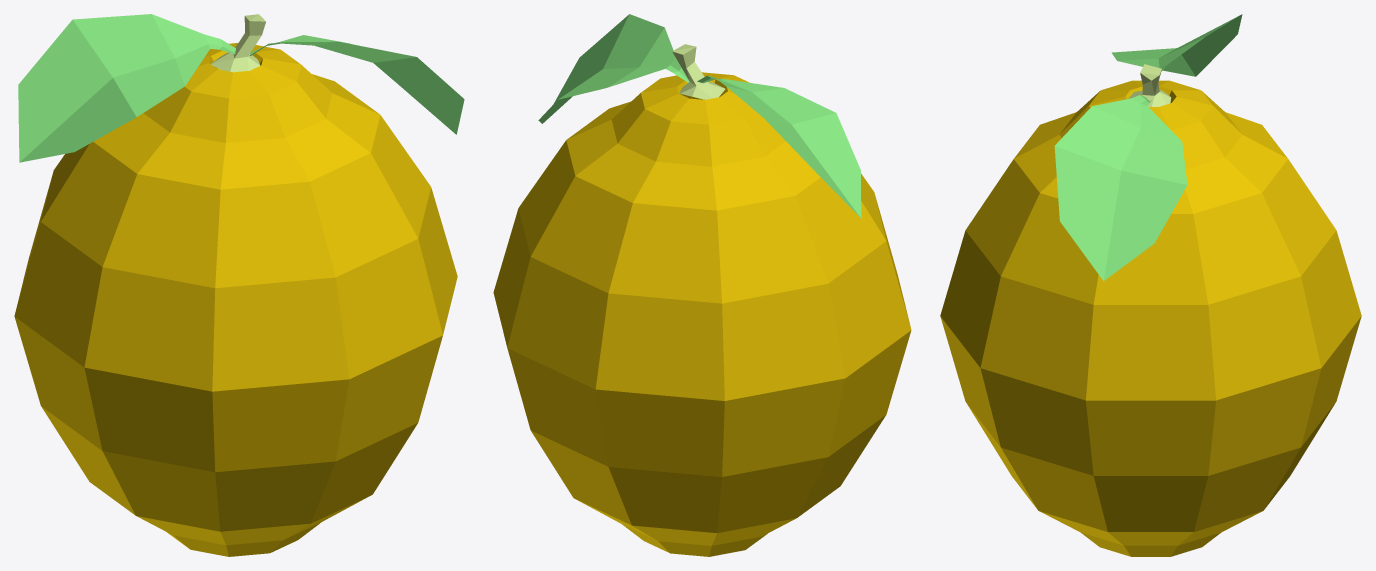
The model's file is lemon.fbx.
The picture shows the model from 3 angles, left to right: view 1: azimuth 30°, elevation 25°; view 2: azimuth 150°, elevation 25°; view 3: azimuth 270°, elevation 25°; orthographic projection. The views are drawn at different scales.
Visible parts, largest first — view 1: lemon; view 2: lemon; view 3: lemon.
Part boxes in pixels (left/top/right/bottom): lemon: left=14, top=14, right=464, bottom=556; lemon: left=493, top=14, right=911, bottom=556; lemon: left=940, top=14, right=1361, bottom=556.
Bounding box in the file's own units: 198 × 255 × 201.
